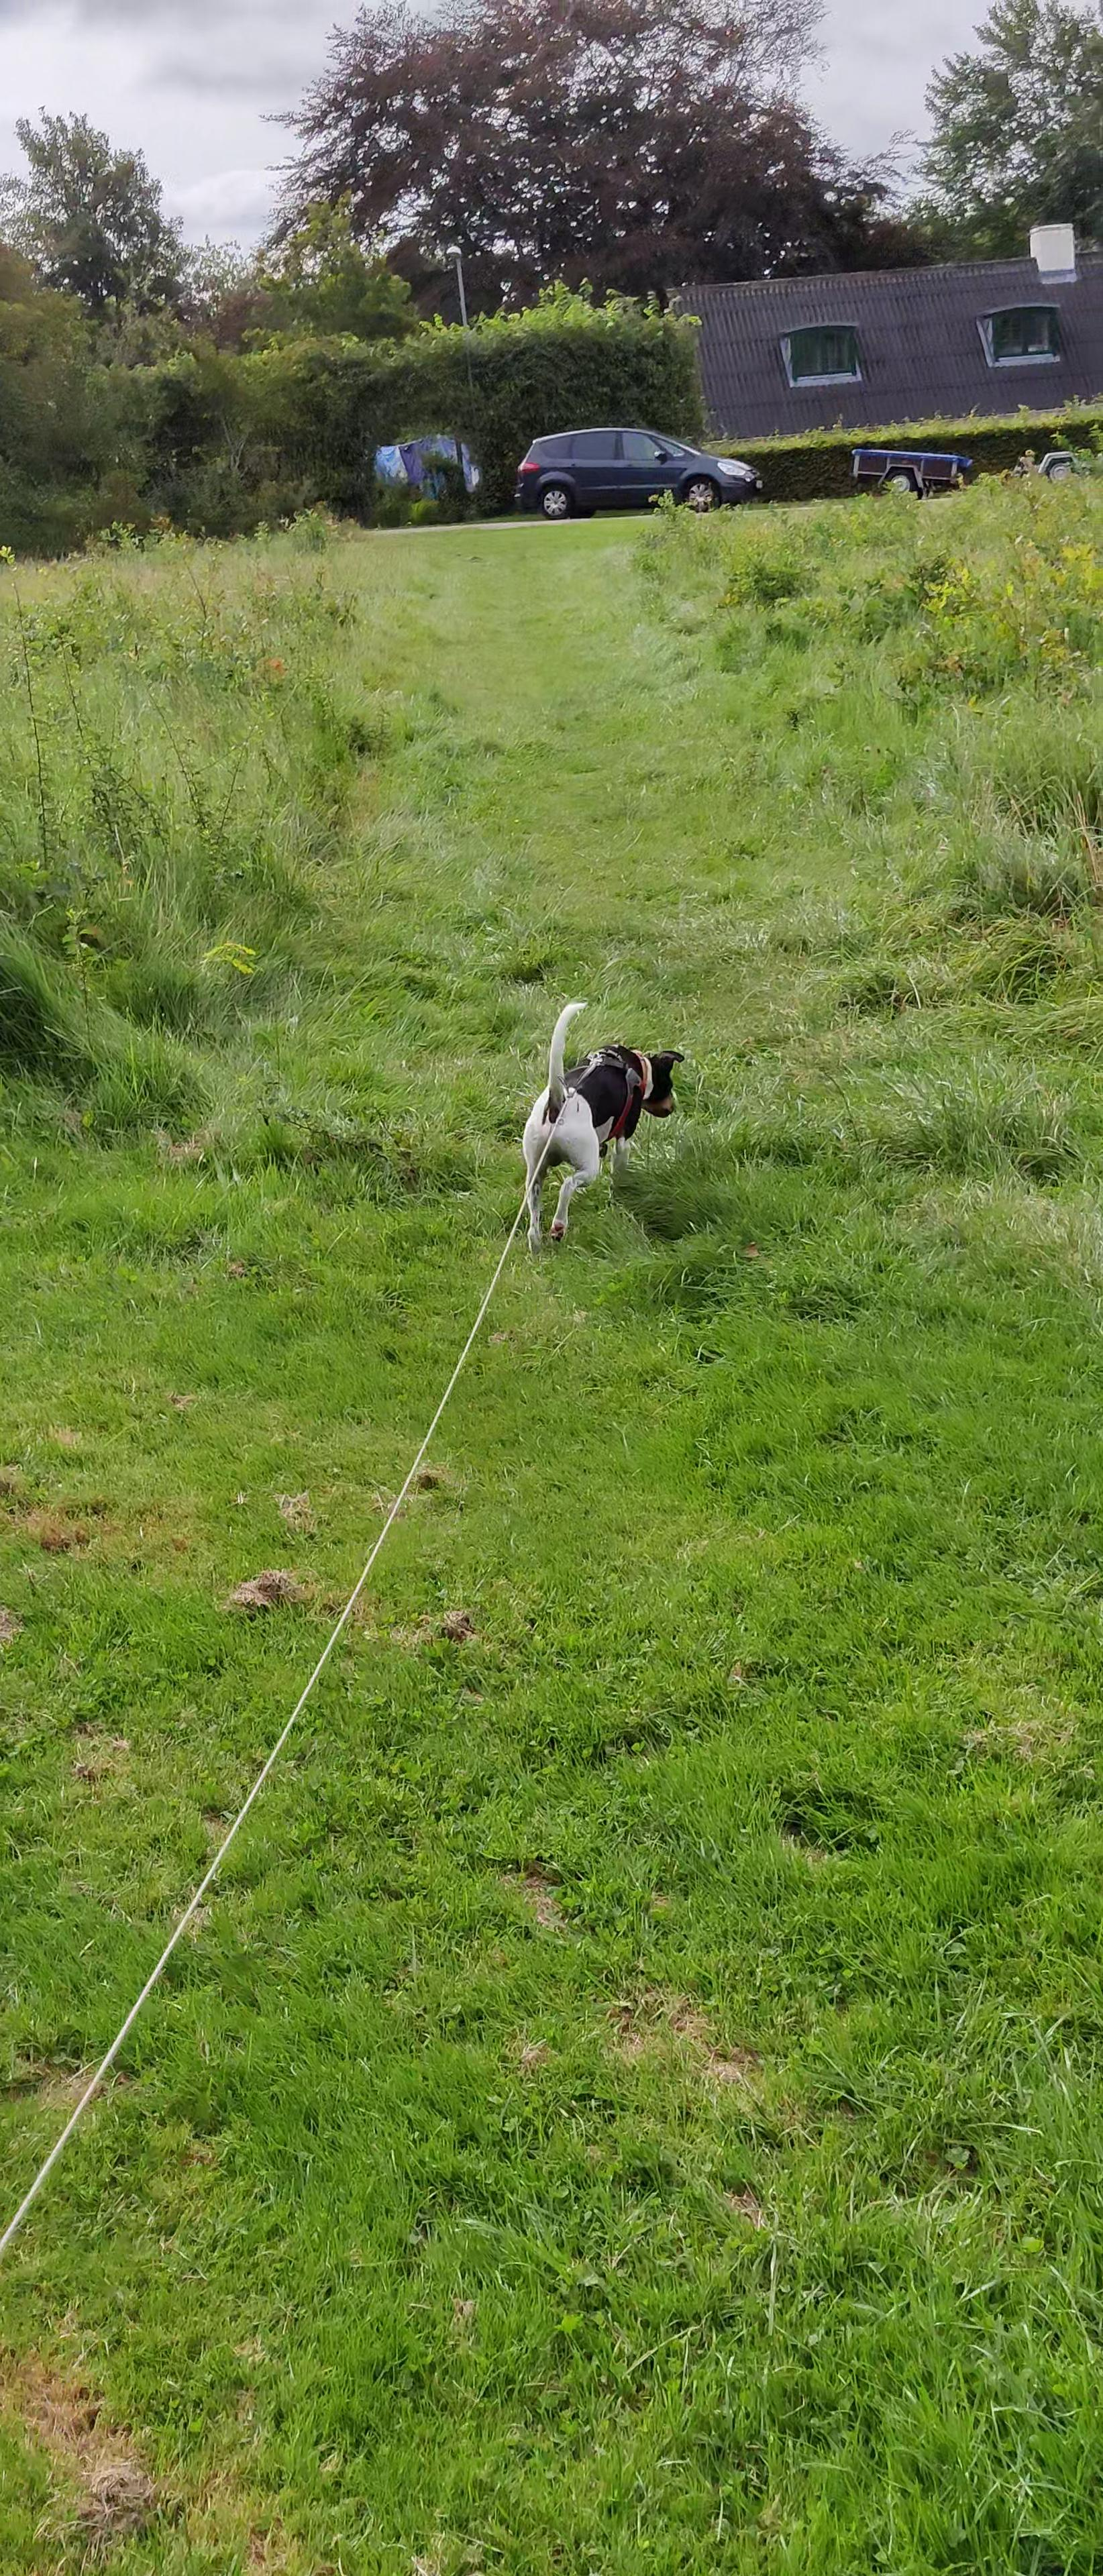Dog: (511, 992, 689, 1258)
